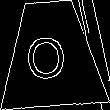O_N: (30, 27, 73, 81)
